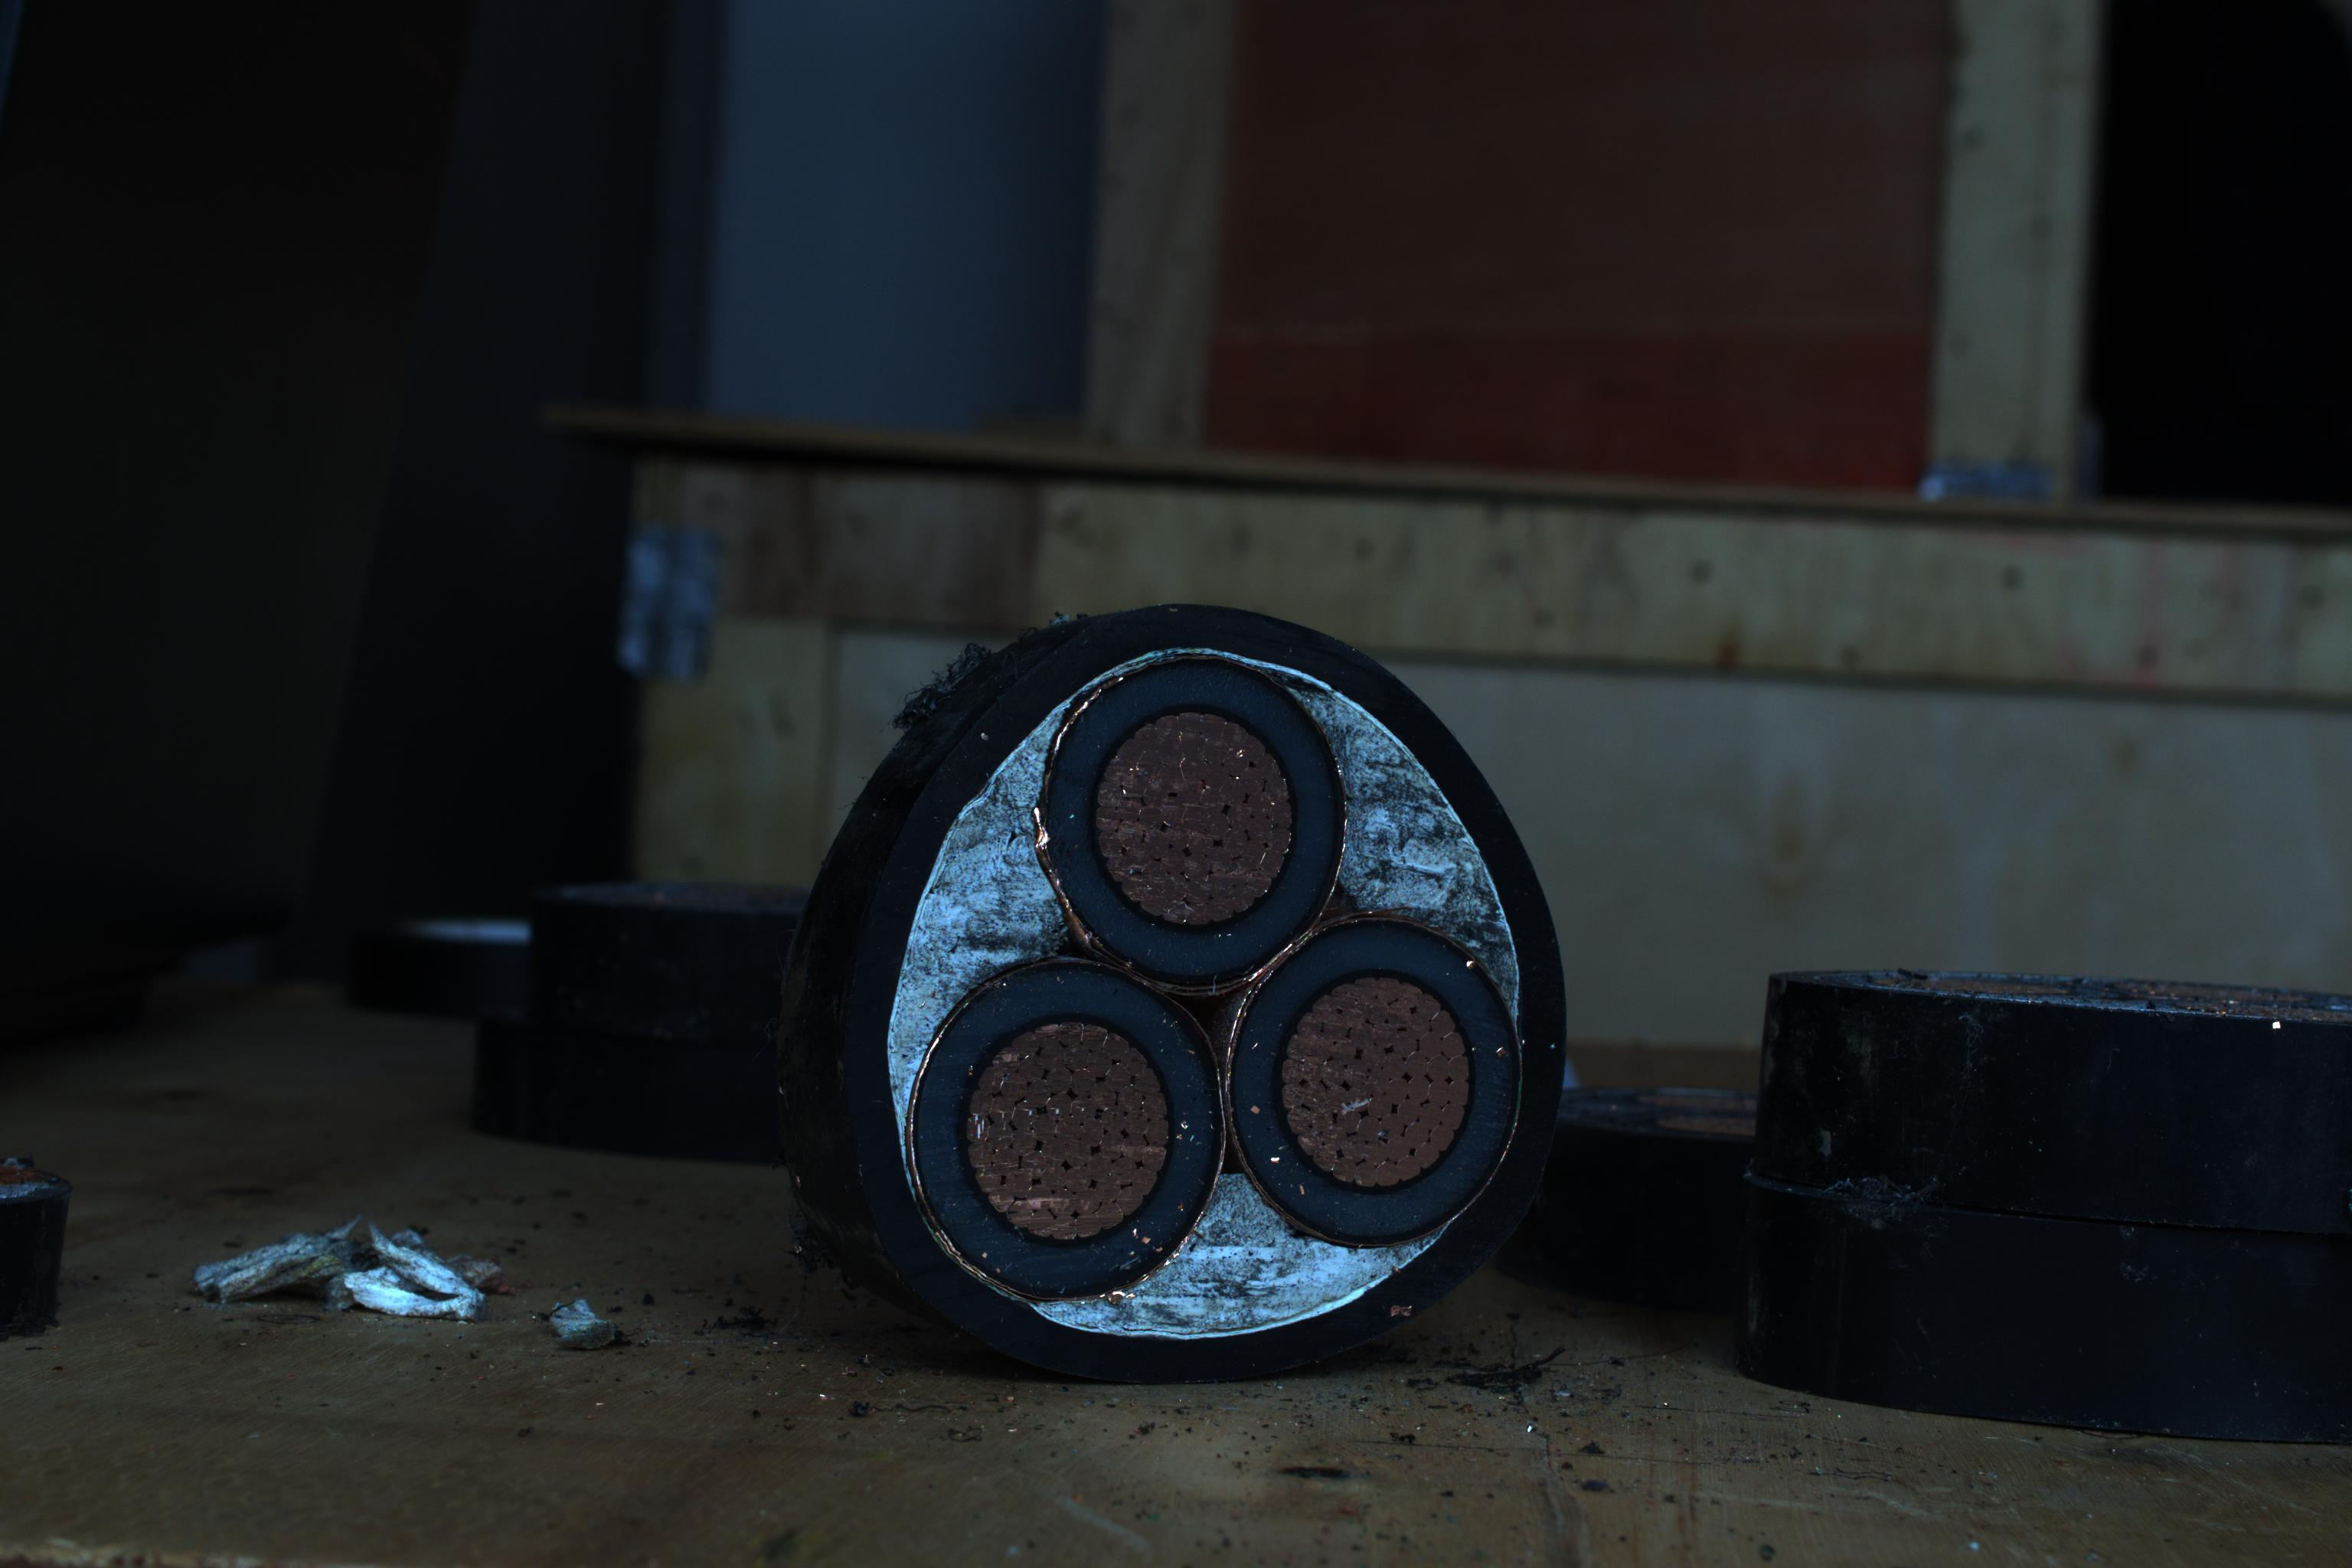ZA_YJV_8.7_10kV_3x400: (835, 611, 1575, 1367)
